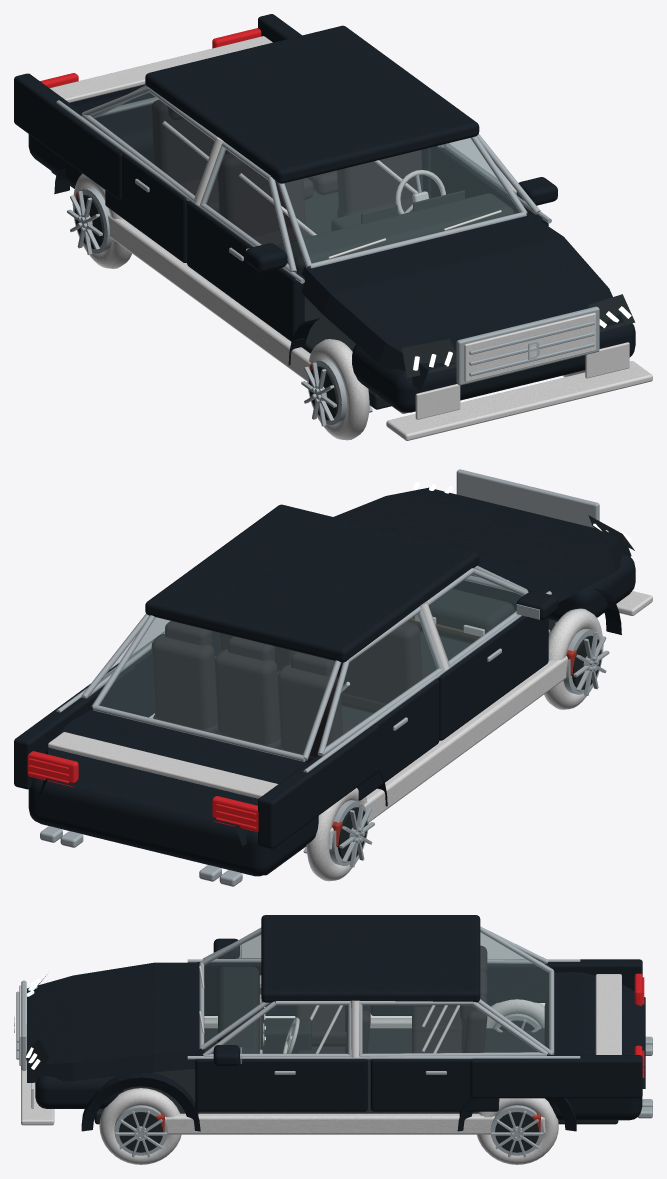
File: brabus-s65.glb
3 views of the same model, one above another, from view 1: azimuth 30°, elevation 25°; view 2: azimuth 150°, elevation 25°; view 3: azimuth 270°, elevation 25° (orthographic). The views are drawn at different scales.
Parts seen in each view (by area): view 1: military_paint_batch, armoured_glass_batch, rubber_batch (×5), brightwork_batch (×3), fabric_batch, cabin_trim_batch (×2), tail_lamp_batch; view 2: military_paint_batch, armoured_glass_batch, fabric_batch, brightwork_batch (×3), rubber_batch (×3), cabin_trim_batch (×2), tail_lamp_batch; view 3: military_paint_batch, armoured_glass_batch, rubber_batch (×5), brightwork_batch (×3), cabin_trim_batch (×4), fabric_batch, tail_lamp_batch.
Boxes of the visible parts, x1,y1,x2,y2 form: military_paint_batch: (14,14,635,412); armoured_glass_batch: (90,92,523,264); rubber_batch (×5): (50,36,652,440); brightwork_batch (×3): (56,85,599,426); fabric_batch: (151,100,423,245); cabin_trim_batch (×2): (51,171,635,409); tail_lamp_batch: (40,28,261,88); military_paint_batch: (14,487,635,876); armoured_glass_batch: (98,574,522,754); fabric_batch: (151,621,432,762); brightwork_batch (×3): (40,469,609,886); rubber_batch (×3): (48,580,652,881); cabin_trim_batch (×2): (264,515,634,875); tail_lamp_batch: (27,751,258,832); military_paint_batch: (27,915,645,1131); armoured_glass_batch: (204,931,549,1053); rubber_batch (×5): (19,966,621,1164); brightwork_batch (×3): (16,926,652,1157); cabin_trim_batch (×4): (25,966,618,1152); fabric_batch: (295,945,487,1053); tail_lamp_batch: (634,973,644,1078).
Size of the model in its own units: 2.34 by 1.53 by 5.37.
11 materials, 3 textured.
